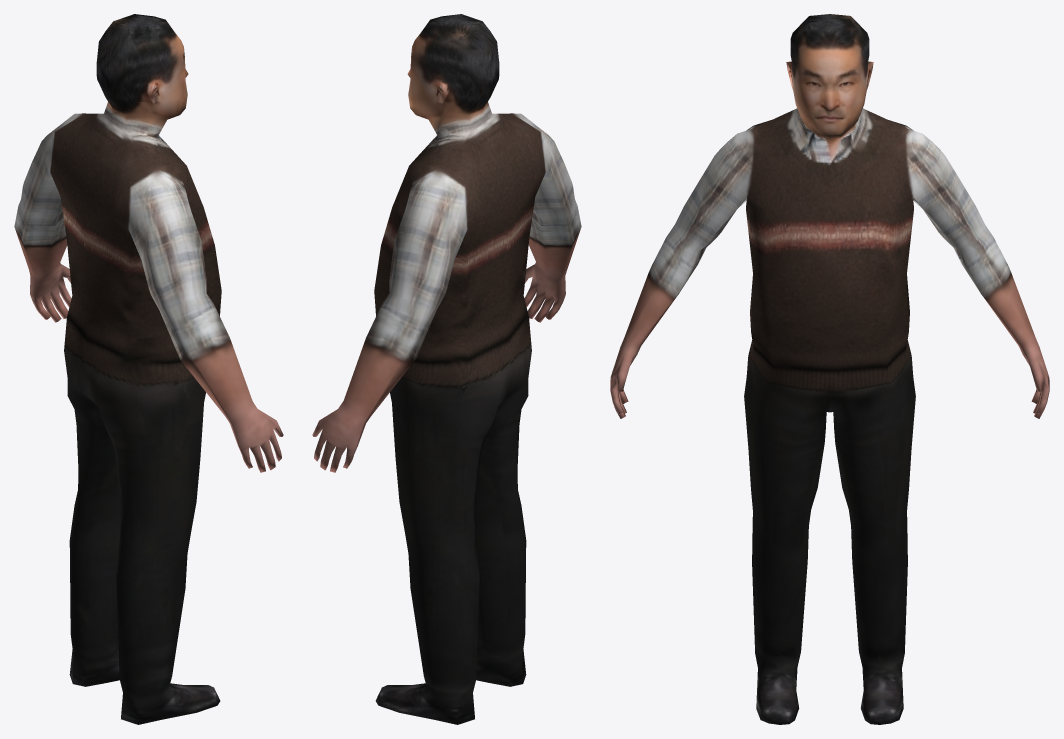
File: Character_Male_45.fbx
The picture shows the model from 3 angles, left to right: view 1: azimuth 30°, elevation 25°; view 2: azimuth 150°, elevation 25°; view 3: azimuth 270°, elevation 25°; orthographic projection.
Visible parts, largest first — view 1: Character_Male_45; view 2: Character_Male_45; view 3: Character_Male_45.
Boxes of the visible parts, box(x1,y1,x2,y2) form: Character_Male_45: box(14, 14, 283, 724); Character_Male_45: box(312, 14, 581, 724); Character_Male_45: box(610, 14, 1049, 724).
Bounding box in the file's own units: 0.3042 × 1.69 × 0.9881.
